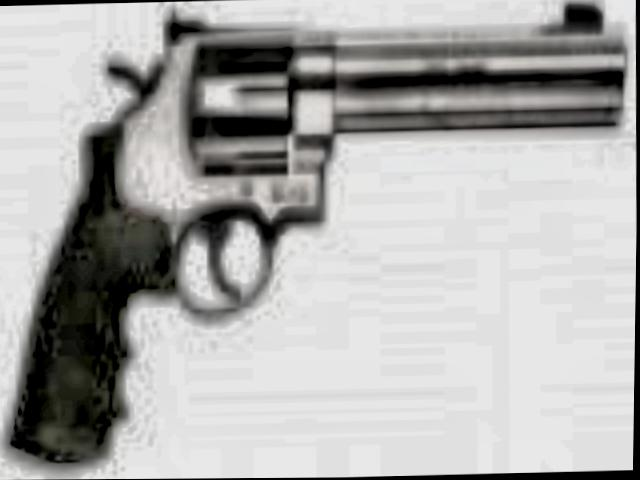pistol: (3, 3, 620, 457)
